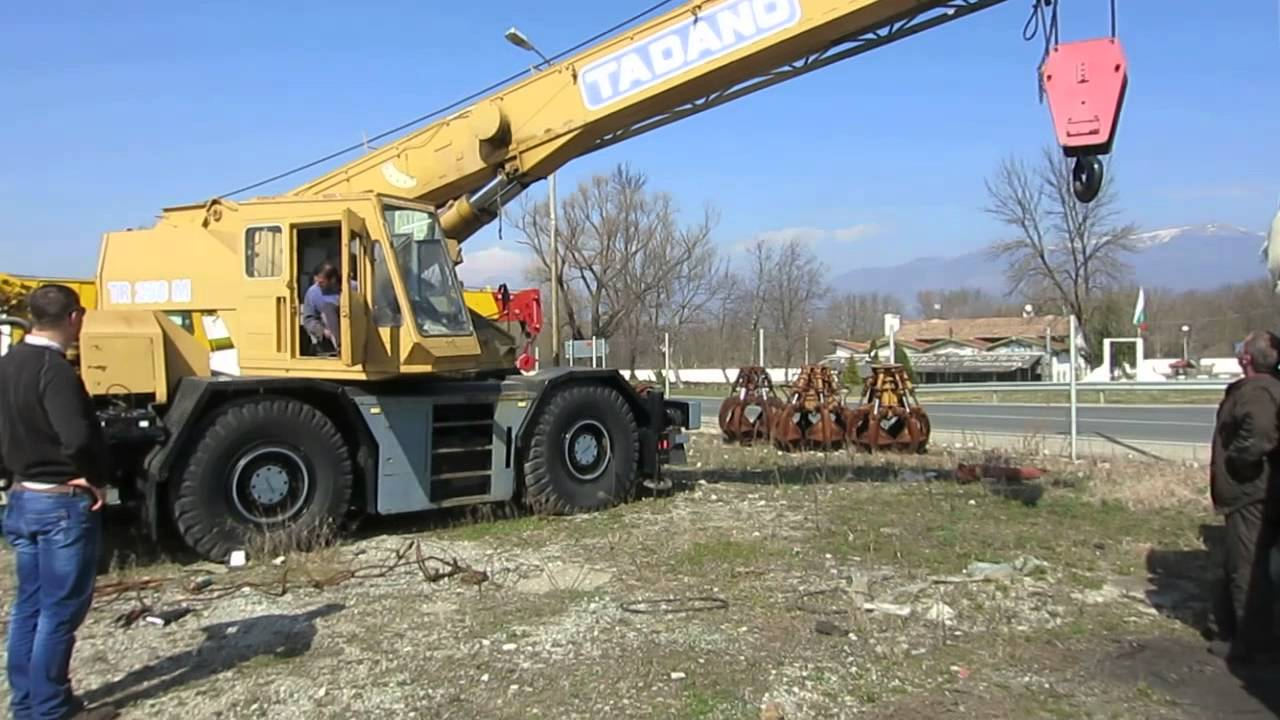crane: (3, 1, 1127, 561)
